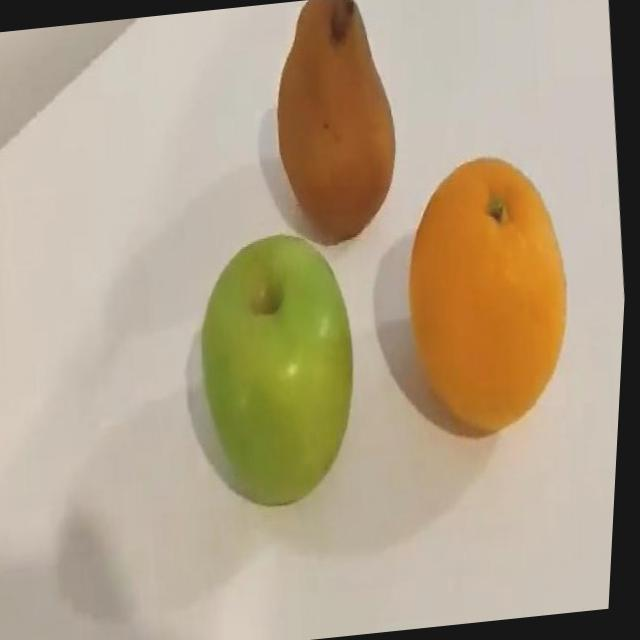Apple: (184, 225, 377, 512), (258, 0, 412, 248)
Orange: (391, 147, 589, 440)
